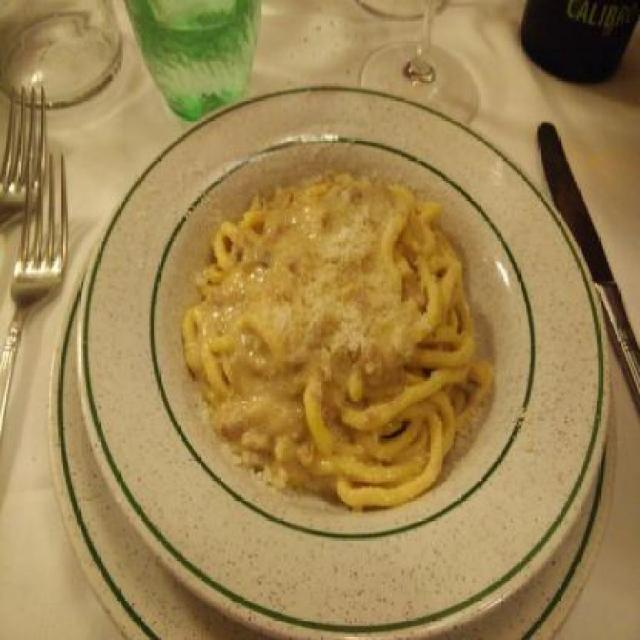Pasta with carbonara sauce: (182, 98, 528, 572)
